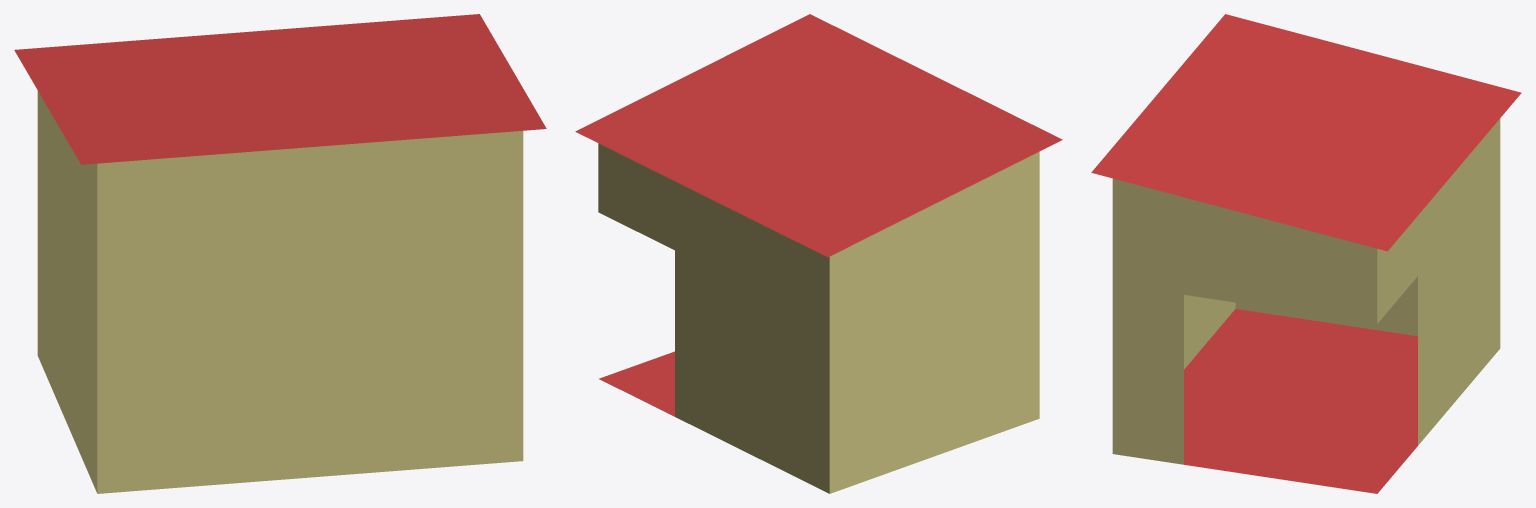
The picture shows the model from 3 angles, left to right: view 1: azimuth 30°, elevation 25°; view 2: azimuth 150°, elevation 25°; view 3: azimuth 270°, elevation 25°; orthographic projection. The views are drawn at different scales.
Size of the model in its own units: 14.19 by 12.69 by 9.29.
